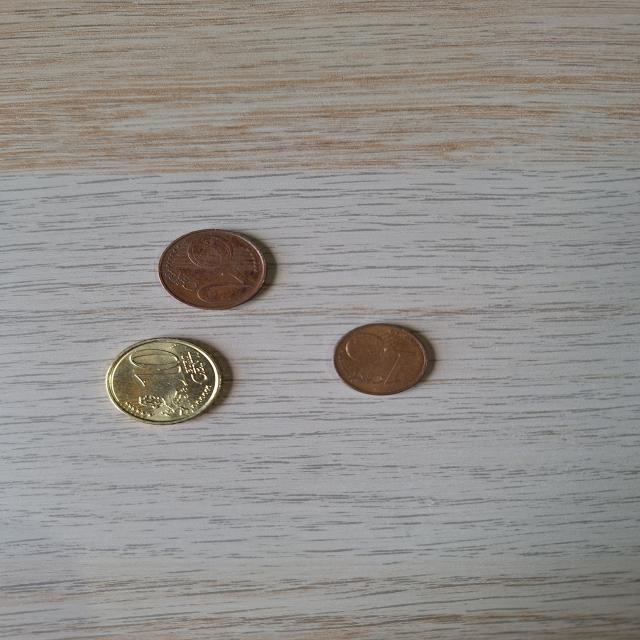10c: (98, 328, 240, 434)
1e: (324, 318, 443, 404)
2c: (149, 220, 279, 318)
